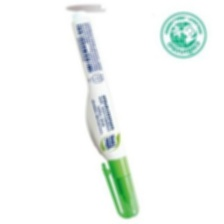correction_fluid: (68, 6, 141, 220)
